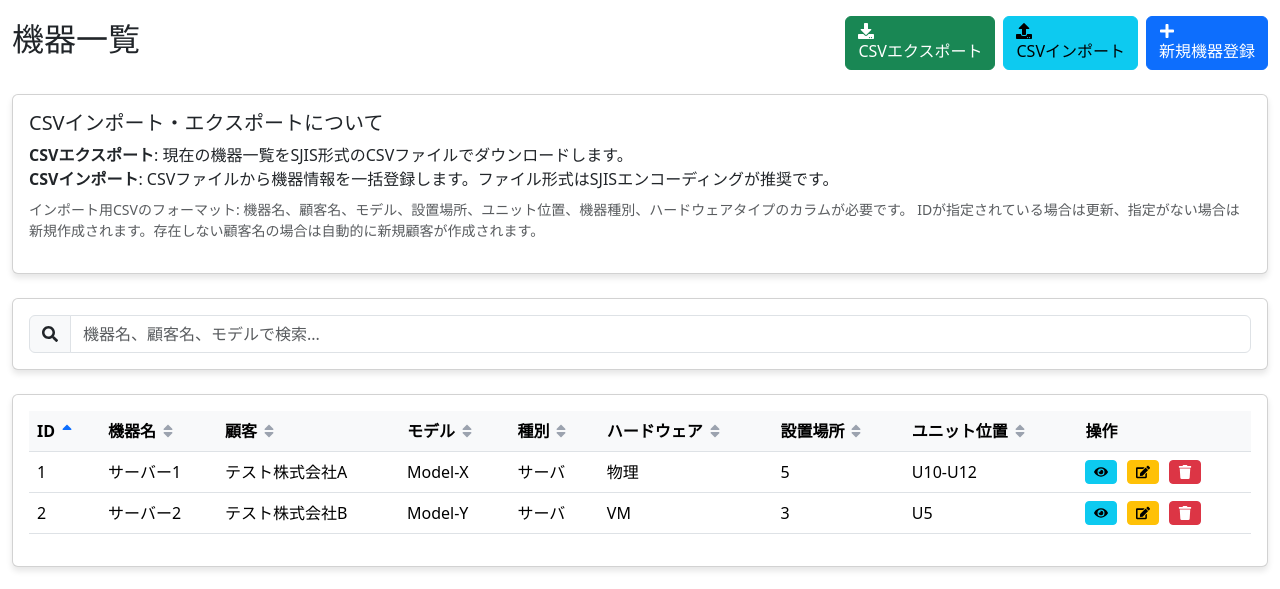
Test: DeviceList Component › filters devices by search term
This screenshot has width=1280, height=589.
Expected: the heading "機器一覧" is shown, [12,20,140,58]
# 検索ボックスに入力
Type "サーバー1" into the field with placeholder "機器名、顧客名、モデルで検索..." at (660, 334), box [70,315,1251,353]
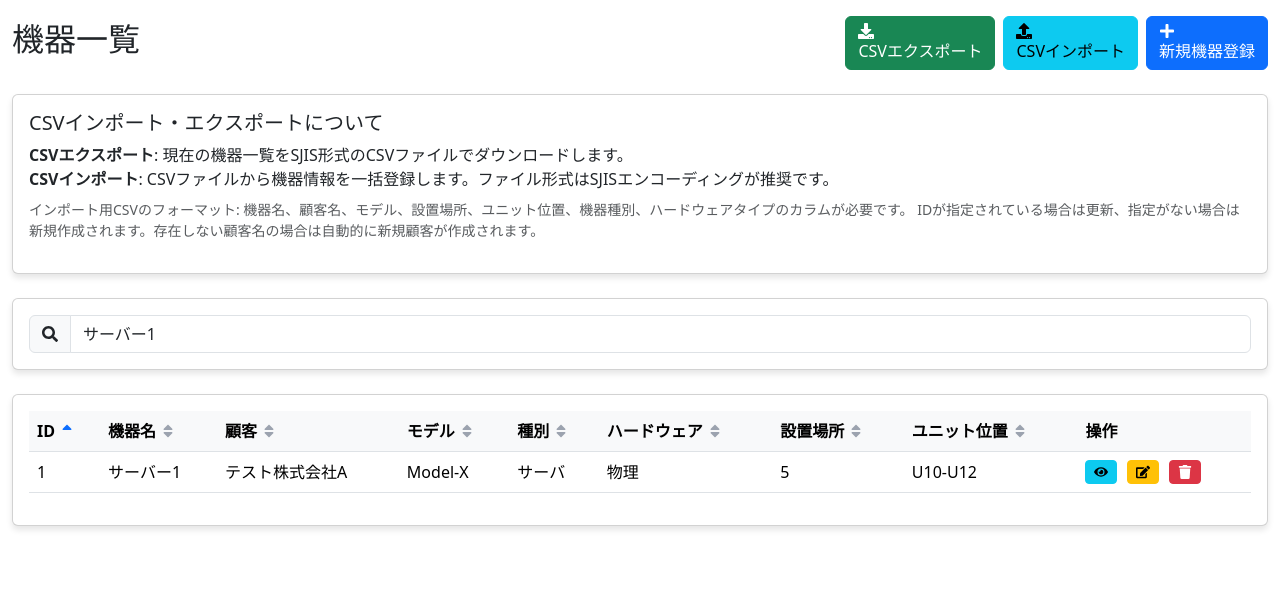
Expected: the text "サーバー1" is shown, [100,452,217,492]
Result: the text "サーバー2" is gone
